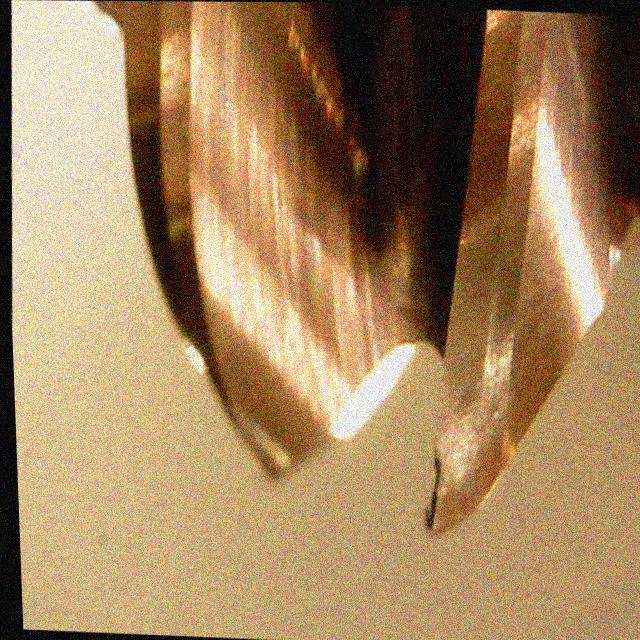Tool-wear-class-1: (397, 333, 516, 545)
